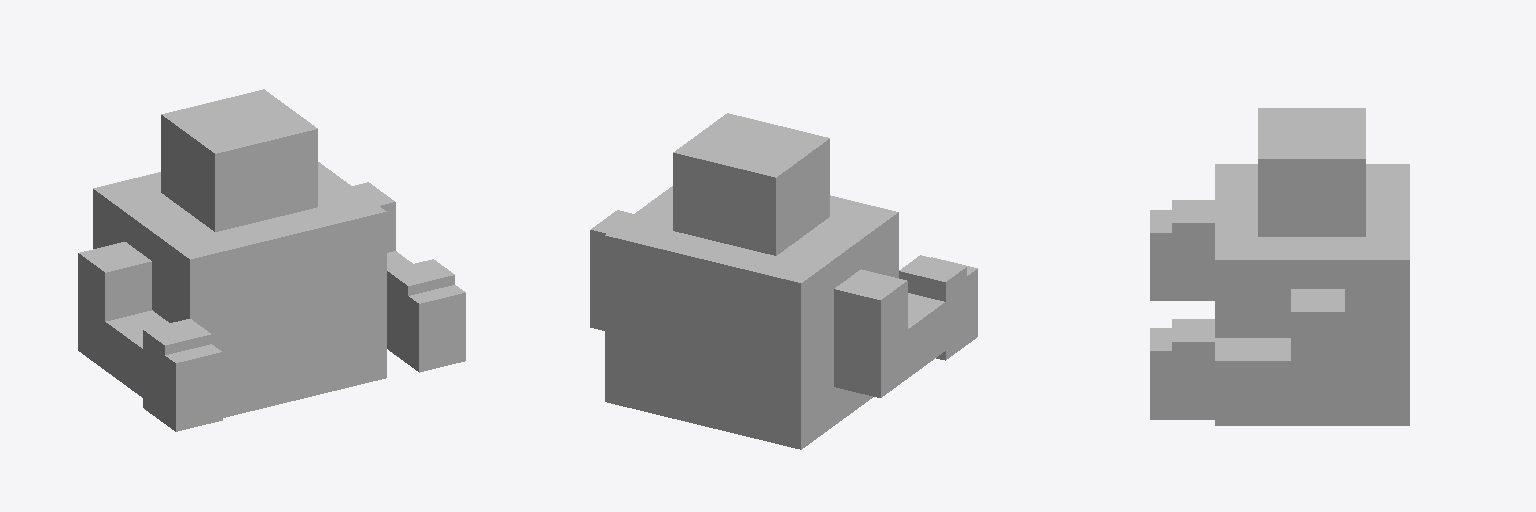
The model's file is boxer body.obj.
3 views of the same model, side by side, from view 1: azimuth 30°, elevation 25°; view 2: azimuth 150°, elevation 25°; view 3: azimuth 270°, elevation 25° (orthographic).
Size of the model in its own units: 31 by 25 by 24.